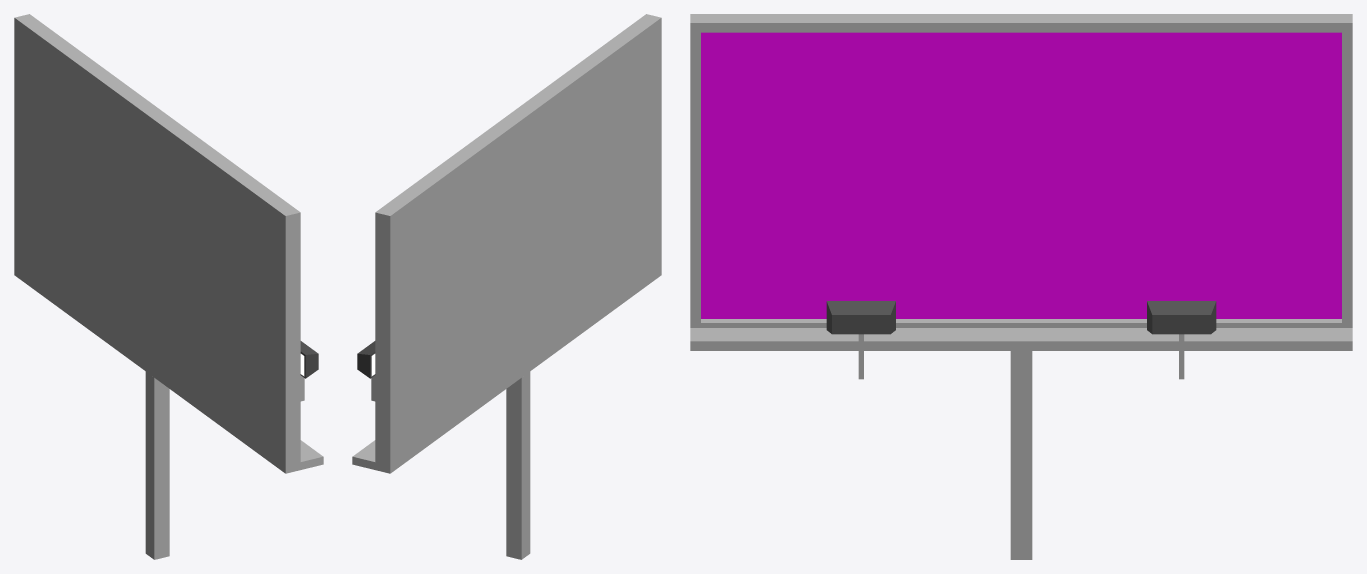
The model's file is billboard_large_1.glb.
The picture shows the model from 3 angles, left to right: view 1: azimuth 30°, elevation 25°; view 2: azimuth 150°, elevation 25°; view 3: azimuth 270°, elevation 25°; orthographic projection. The views are drawn at different scales.
Visible parts, largest first — view 1: Würfel, Würfel.002, Würfel.001, lamp_1_outer; view 2: Würfel, Würfel.002, Würfel.001, lamp_2_outer; view 3: plane, Würfel, Würfel.001, Würfel.002, lamp_1_outer, lamp_2_outer.
Boxes of the visible parts, x1,y1,x2,y2 form: Würfel: [14, 14, 300, 473]; Würfel.002: [145, 371, 169, 559]; Würfel.001: [300, 440, 323, 469]; lamp_1_outer: [300, 341, 318, 378]; Würfel: [375, 14, 661, 473]; Würfel.002: [506, 371, 530, 559]; Würfel.001: [352, 440, 375, 469]; lamp_2_outer: [357, 341, 375, 378]; plane: [701, 32, 1341, 318]; Würfel: [690, 14, 1352, 327]; Würfel.001: [690, 328, 1352, 350]; Würfel.002: [1010, 351, 1032, 559]; lamp_1_outer: [826, 301, 895, 334]; lamp_2_outer: [1147, 301, 1216, 334].
Size of the model in its own units: 1.2 by 5.55 by 6.2.
